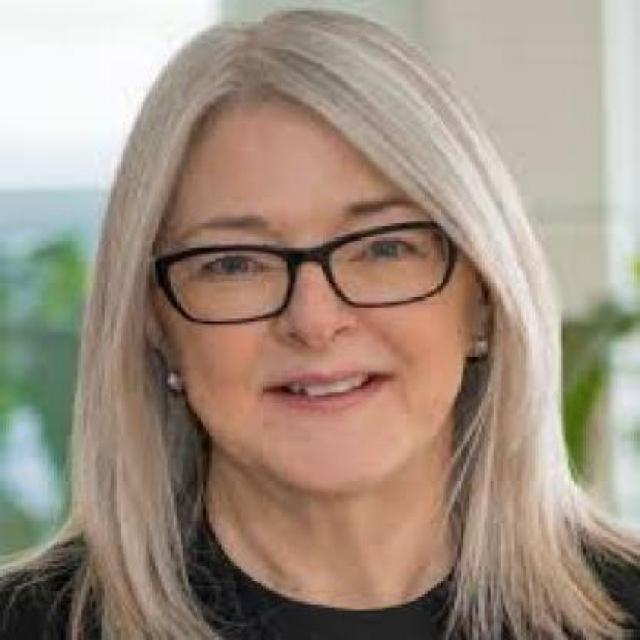glasses: (135, 205, 476, 340)
